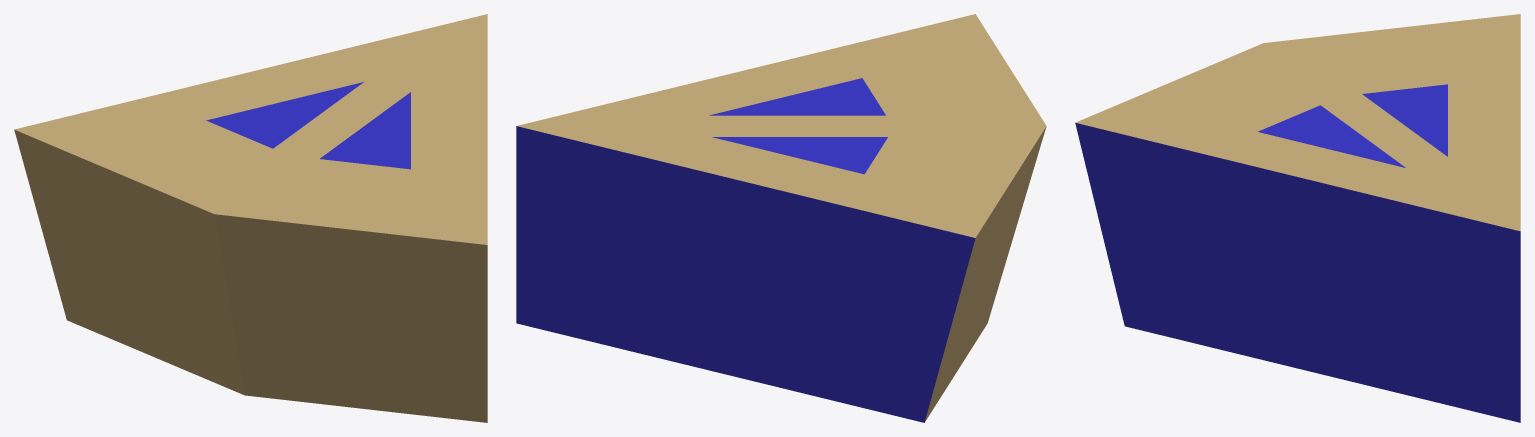
File: BlueberryPie.fbx
3 renders of one model, left to right at view 1: azimuth 30°, elevation 25°; view 2: azimuth 150°, elevation 25°; view 3: azimuth 270°, elevation 25°, orthographic. The views are drawn at different scales.
Parts seen in each view (by area): view 1: BlueberryPie; view 2: BlueberryPie; view 3: BlueberryPie.
Boxes of the visible parts, <box> form: BlueberryPie: <box>14,14,487,422</box>; BlueberryPie: <box>516,14,1046,422</box>; BlueberryPie: <box>1075,14,1520,422</box>.
Size of the model in its own units: 68.91 by 28.3 by 59.68.
